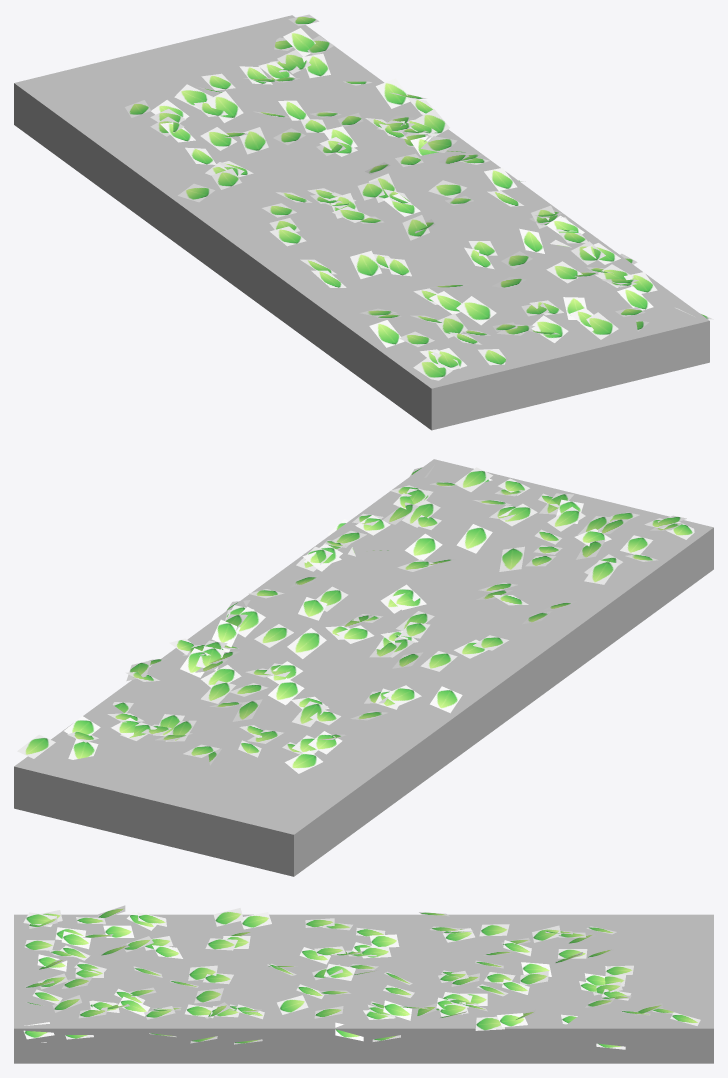
Rendered from MazetoCellRoad.fbx.
The picture shows the model from 3 angles, top to bottom: view 1: azimuth 30°, elevation 25°; view 2: azimuth 150°, elevation 25°; view 3: azimuth 270°, elevation 25°; orthographic projection. The views are drawn at different scales.
Parts seen in each view (by area): view 1: Maze_Wall072; view 2: Maze_Wall072; view 3: Maze_Wall072.
Part boxes in pixels (bbox=[...]): Maze_Wall072: bbox=[14, 14, 713, 430]; Maze_Wall072: bbox=[14, 459, 713, 876]; Maze_Wall072: bbox=[14, 905, 713, 1063].
Bounding box in the file's own units: 40.72 × 7.99 × 102.
